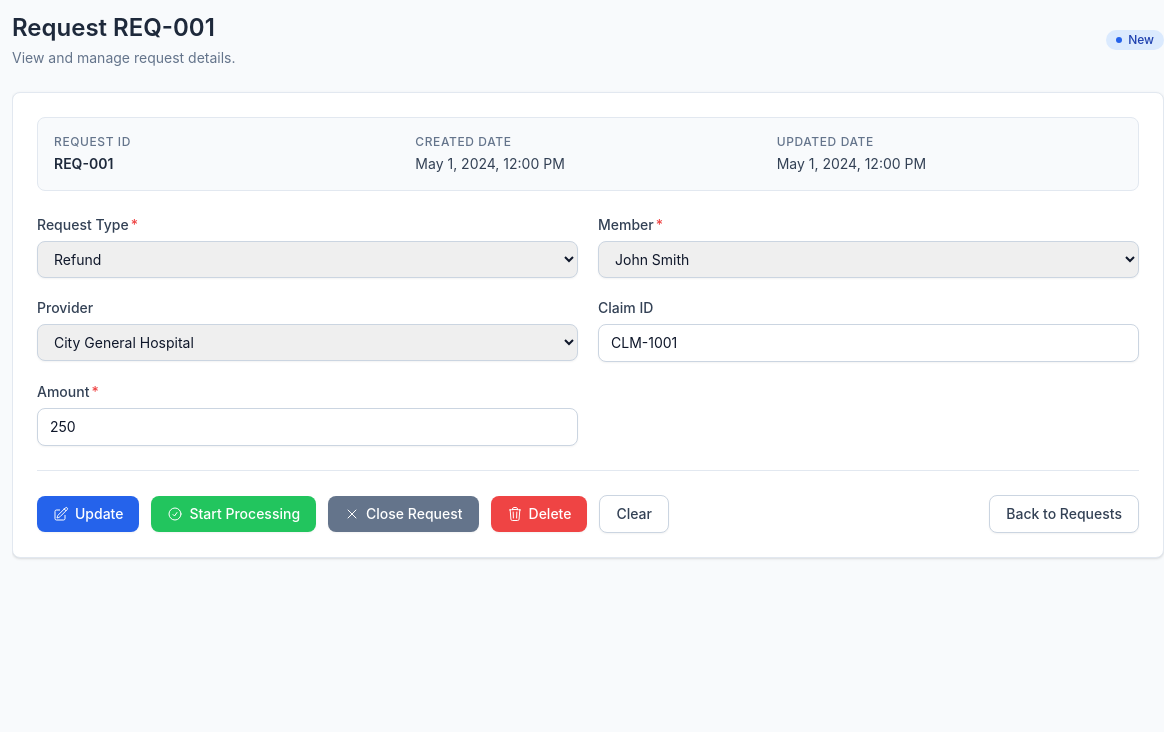
Test: CreateEditRequest › edit mode - update request › updates a request successfully
Replace the text in the number field labelled "Amount*" with "500" at (308, 427), box left=37, top=408, right=578, bottom=446
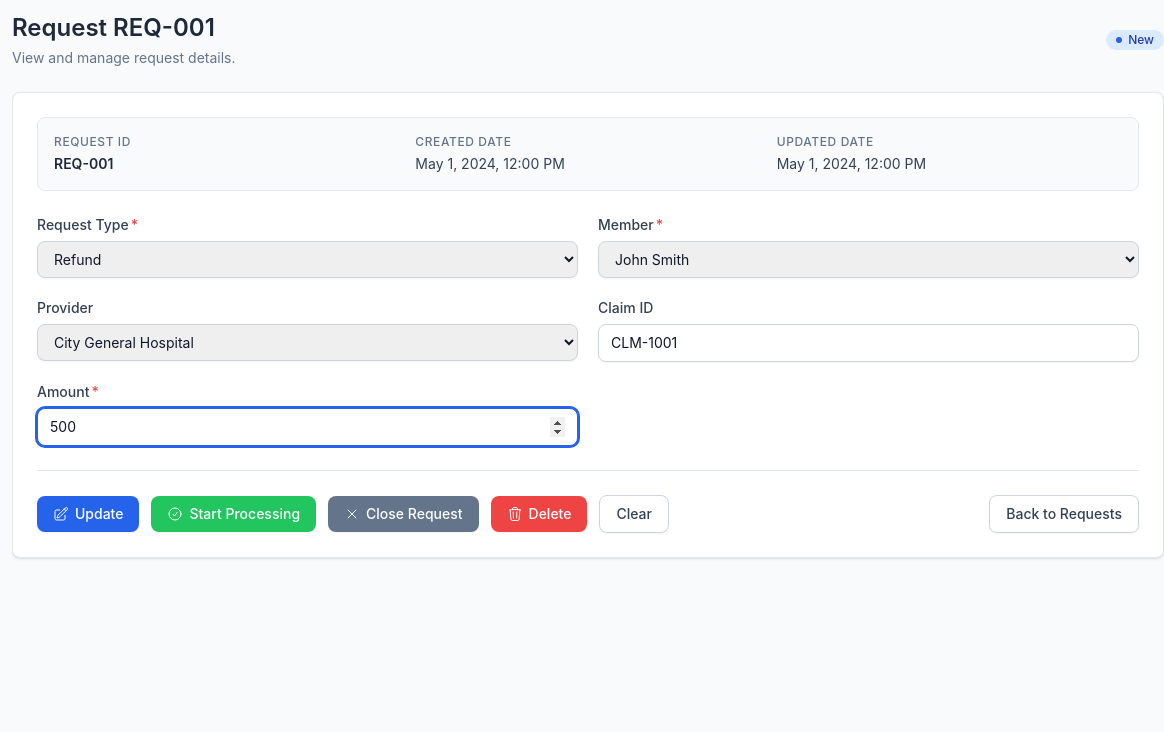
Click the button "Update" at (88, 514), box left=37, top=496, right=140, bottom=532
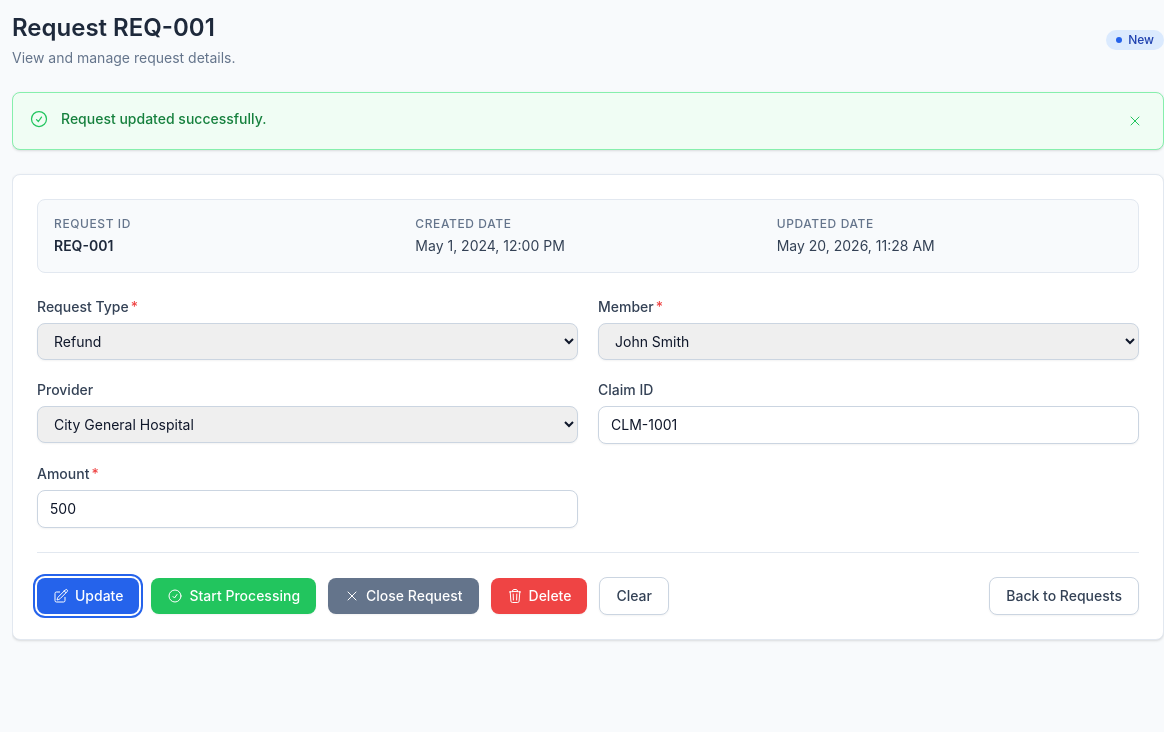
Check: the text "Request updated successfully." is shown, box left=61, top=110, right=266, bottom=127
